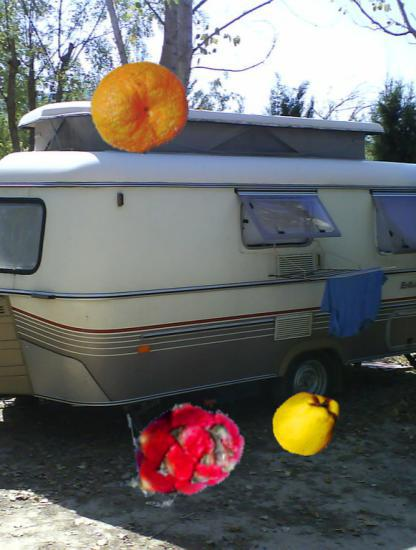Mandarine: (89, 58, 190, 159)
Pitahaya: (115, 388, 248, 521)
Quince: (271, 387, 343, 459)
